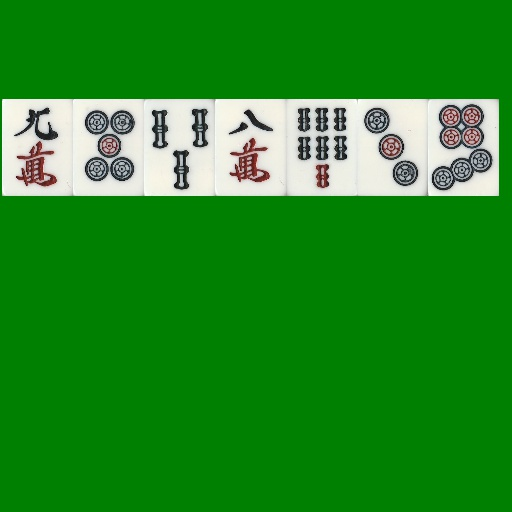3p: (357, 99, 428, 196)
3s: (144, 99, 215, 196)
5p: (73, 99, 144, 196)
7p: (428, 99, 499, 196)
7s: (286, 99, 357, 196)
8m: (215, 99, 286, 196)
9m: (2, 99, 73, 196)
